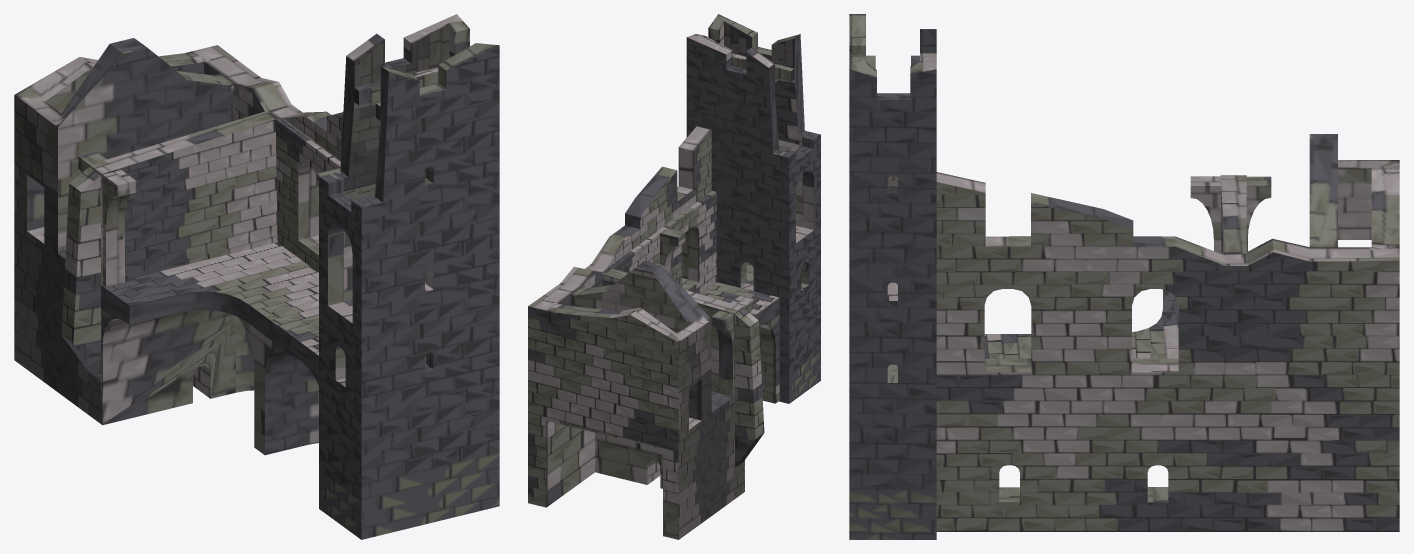
Rendered from ruined_tower.glb.
3 renders of one model, left to right at view 1: azimuth 30°, elevation 25°; view 2: azimuth 150°, elevation 25°; view 3: azimuth 270°, elevation 25°, orthographic. The views are drawn at different scales.
Visible parts, largest first — view 1: Box010; view 2: Box010; view 3: Box010.
Part boxes in pixels (<box>): Box010: <box>14,14,499,539</box>; Box010: <box>528,14,820,539</box>; Box010: <box>849,14,1399,539</box>.
Bounding box in the file's own units: 92.55 × 167 × 177.
1 material, 1 textured.
